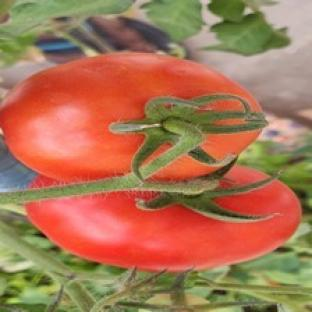Tomato: (0, 53, 260, 181), (26, 182, 300, 271)
